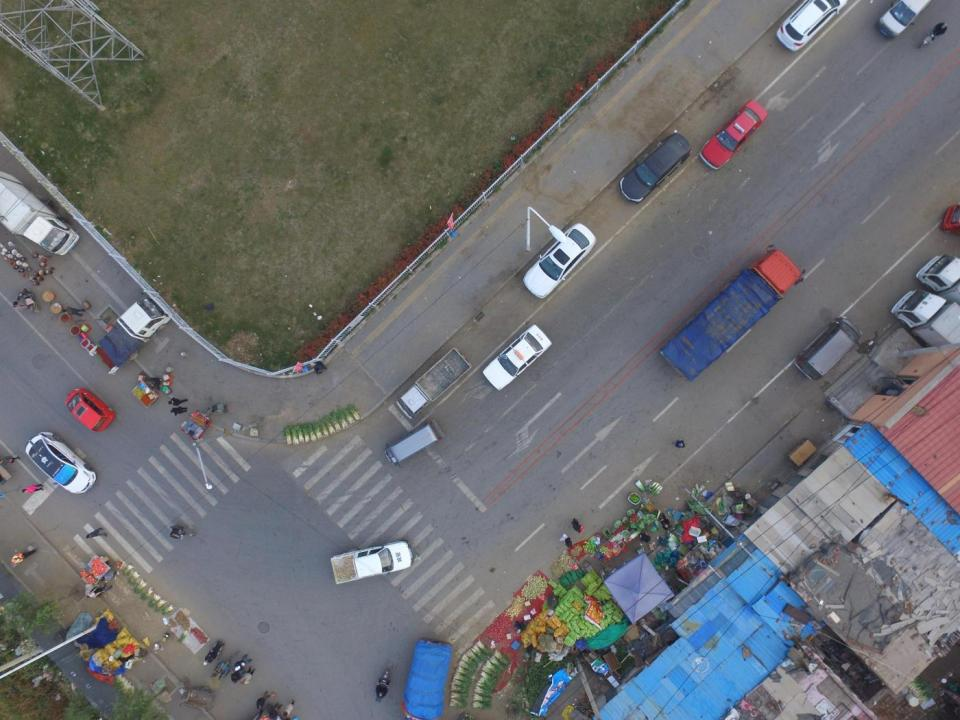car: (523, 223, 596, 298), (619, 133, 691, 204), (481, 324, 552, 391), (700, 100, 768, 169), (25, 431, 96, 494)
truck: (659, 244, 806, 383), (0, 171, 79, 254), (396, 348, 472, 420), (890, 289, 960, 364), (401, 638, 452, 719), (330, 540, 413, 584), (914, 254, 960, 305)
van: (88, 296, 171, 374), (793, 317, 862, 380), (776, 0, 848, 50), (385, 420, 445, 465), (877, 0, 934, 38)
